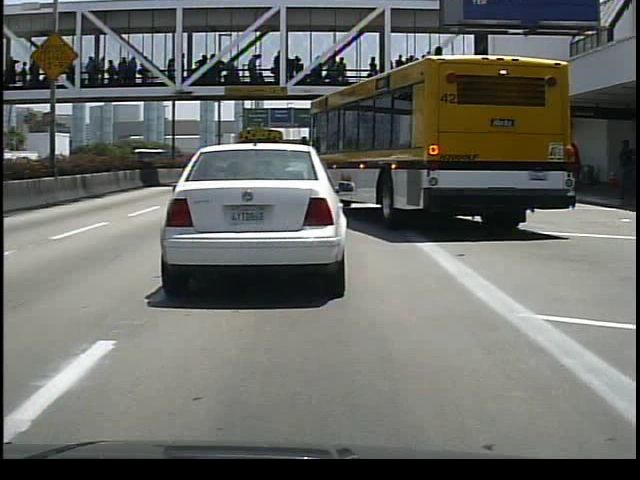person: (615, 139, 639, 206)
